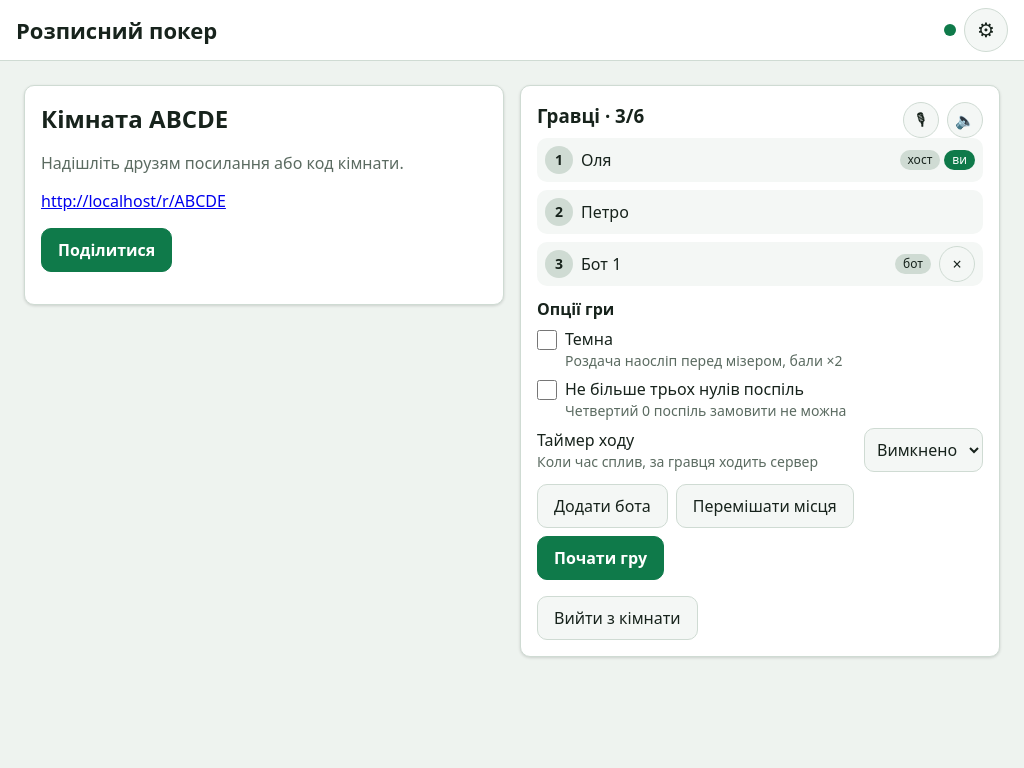
кнопки виходу (T180) › у кімнаті очікування — «Вийти з кімнати»
Click the button "Вийти з кімнати" at (617, 618), box [537,596,698,640]
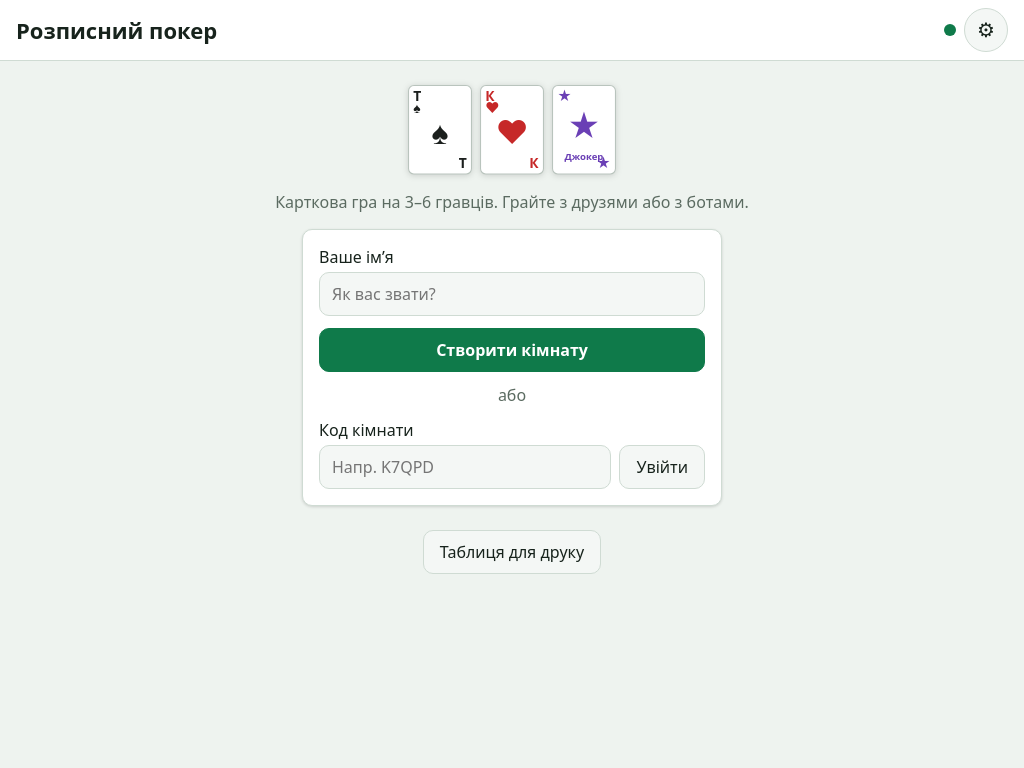
Now the field labelled "Ваше імʼя" is shown, box [319,272,705,316]
